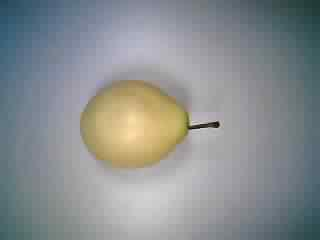pear: (67, 70, 222, 182)
